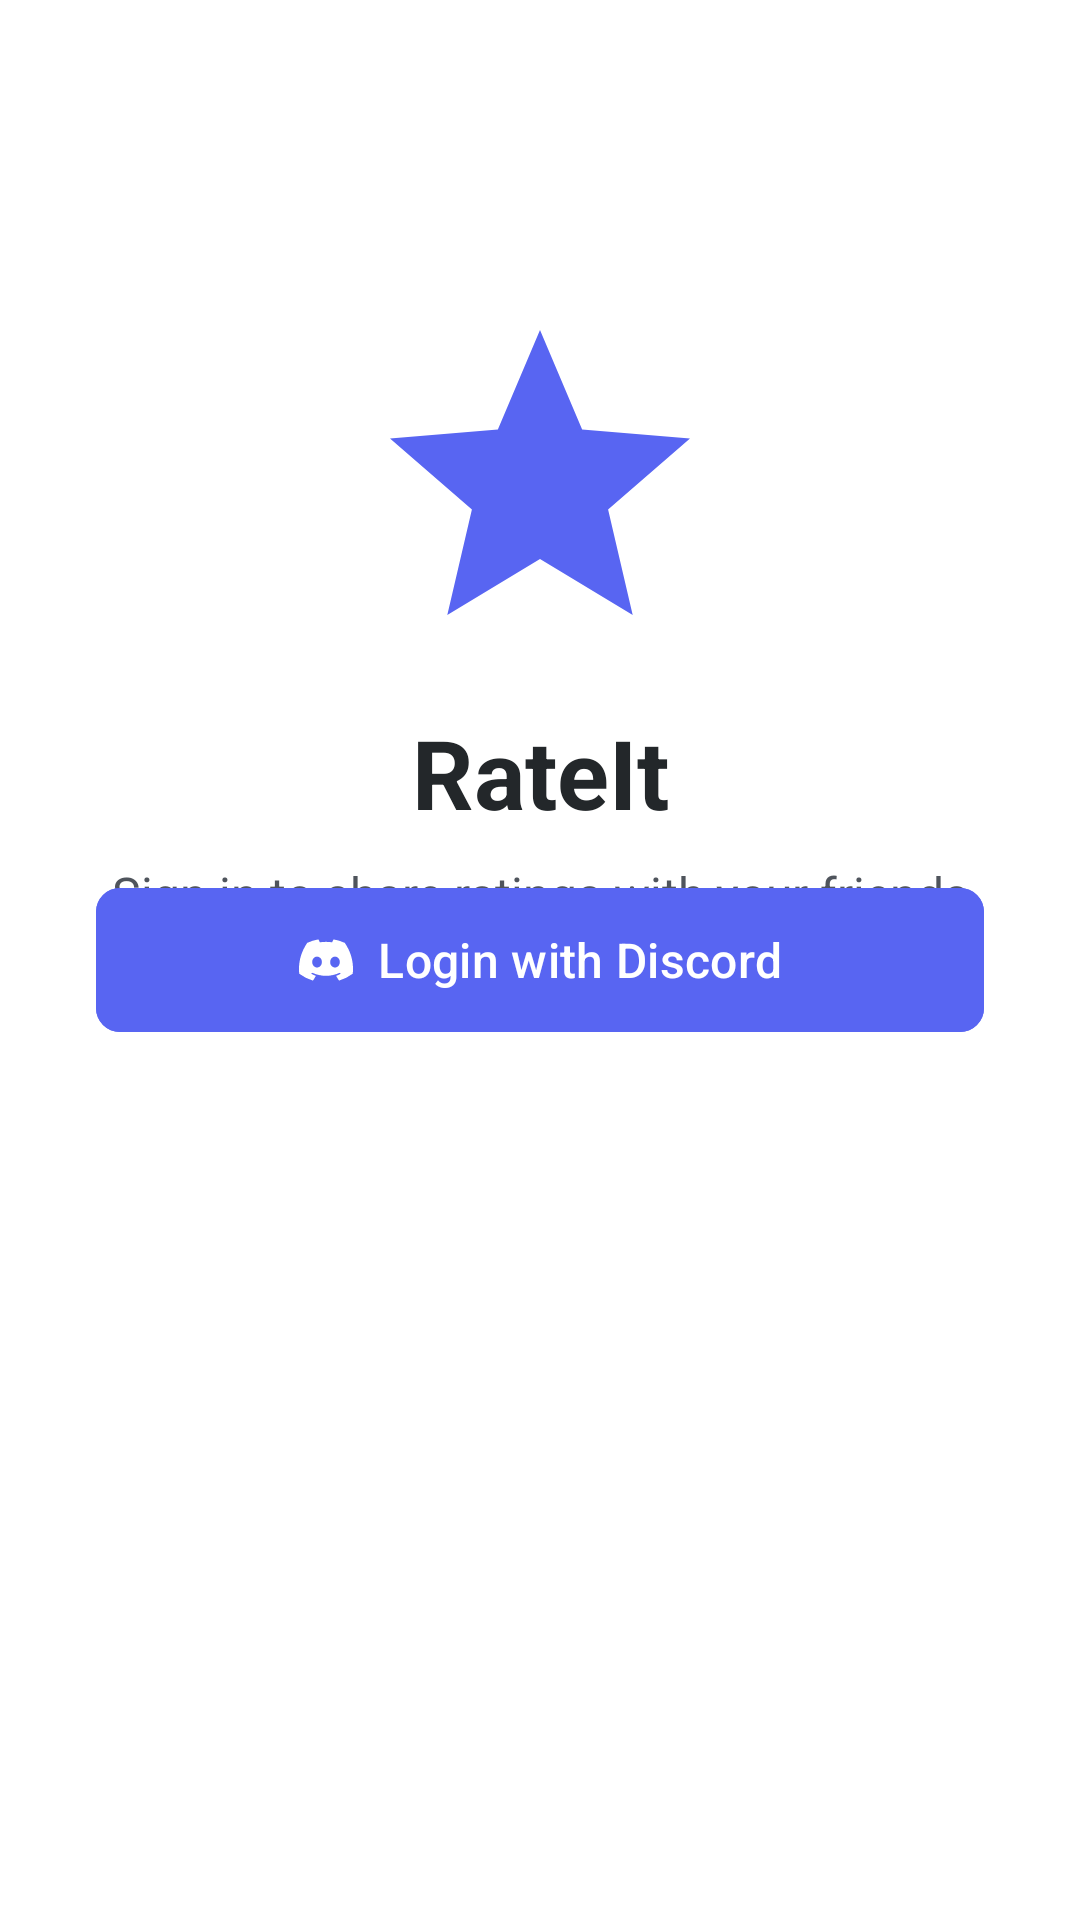

Named icons in this screenshot (1080 x 1920) and their centers, point (x, y):
star: point (540, 472)
